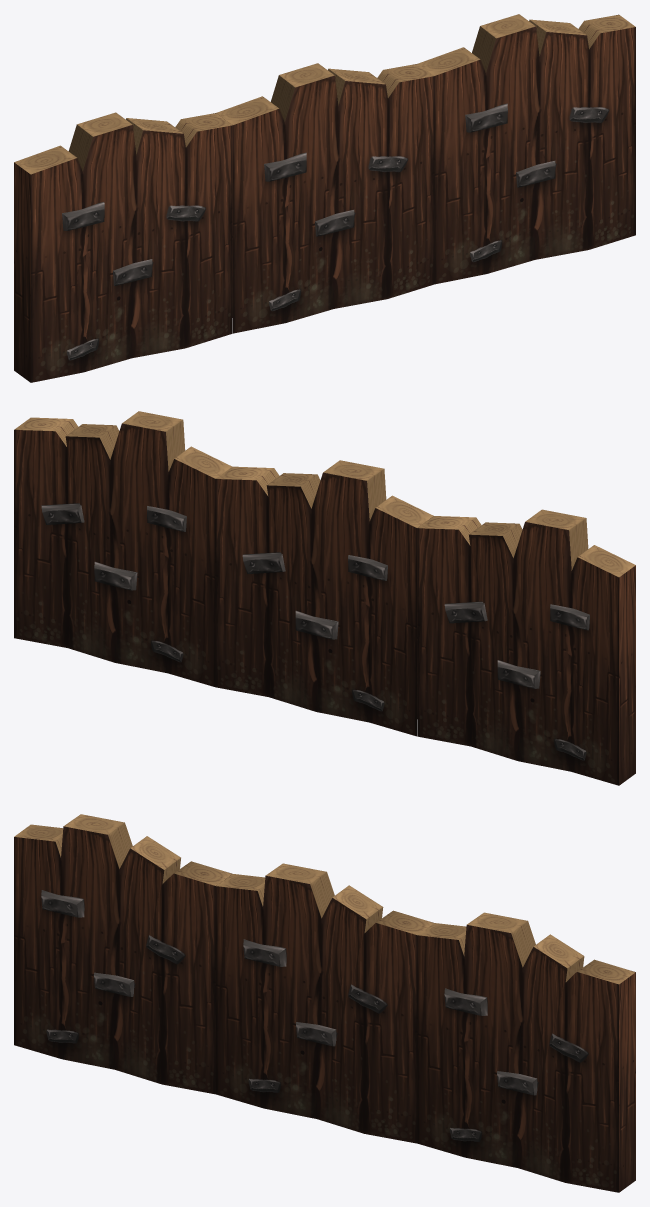
Rendered from TheWallx3.FBX.
3 renders of one model, top to bottom at view 1: azimuth 30°, elevation 25°; view 2: azimuth 150°, elevation 25°; view 3: azimuth 330°, elevation 25°, orthographic.
Visible parts, largest first — view 1: Wall; view 2: Wall; view 3: Wall.
Boxes of the visible parts, x1,y1,x2,y2 form: Wall: (14, 14, 635, 382); Wall: (14, 411, 635, 785); Wall: (14, 814, 635, 1192).
Size of the model in its own units: 3.69 by 1.38 by 0.2767.
